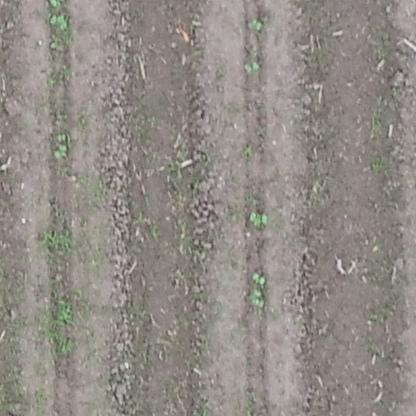vc: (247, 209, 271, 229), (52, 143, 72, 161), (49, 14, 70, 31), (249, 289, 265, 309), (243, 59, 261, 73), (248, 16, 264, 31), (250, 271, 267, 285), (57, 132, 69, 141)
